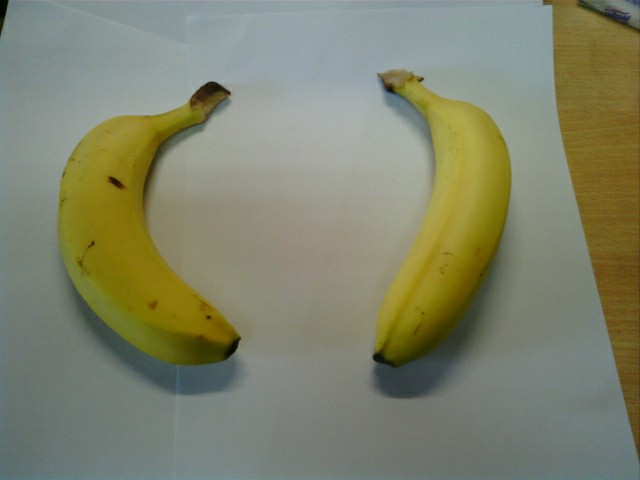fresh_banana: (377, 73, 515, 367)
normal_banana: (61, 91, 245, 366)
